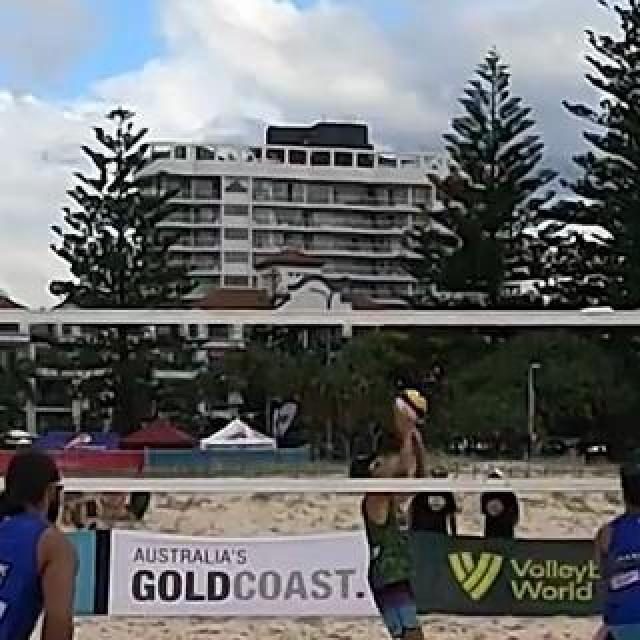volleyball: (396, 388, 428, 418)
